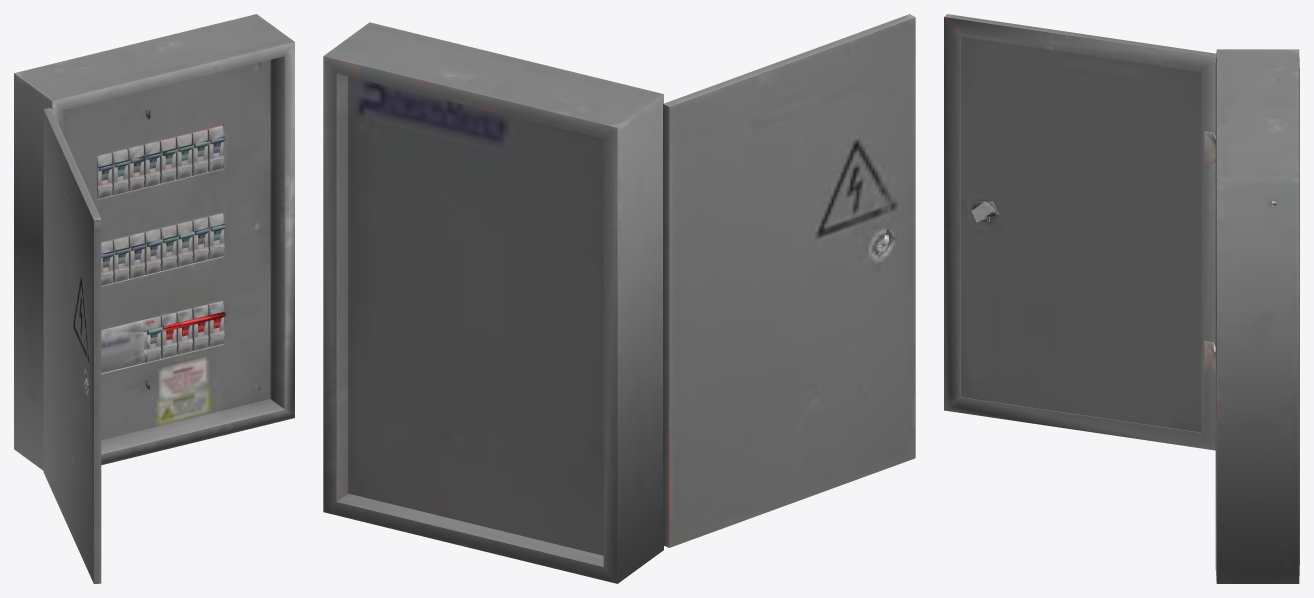
The model's file is power_box_01.glb.
3 renders of one model, left to right at view 1: azimuth 30°, elevation 25°; view 2: azimuth 150°, elevation 25°; view 3: azimuth 270°, elevation 25°, orthographic. The views are drawn at different scales.
Visible parts, largest first — view 1: power_box_01_box, power_box_01_door; view 2: power_box_01_box, power_box_01_door; view 3: power_box_01_door, power_box_01_box.
Boxes of the visible parts, box(x1,y1,x2,y2) form: power_box_01_box: box(14, 14, 294, 470); power_box_01_door: box(43, 108, 101, 583); power_box_01_box: box(323, 22, 663, 583); power_box_01_door: box(663, 14, 915, 547); power_box_01_door: box(944, 14, 1216, 450); power_box_01_box: box(1215, 49, 1299, 583).
Bounding box in the file's own units: 0.4608 × 0.5031 × 0.399.
1 material, 1 textured.
